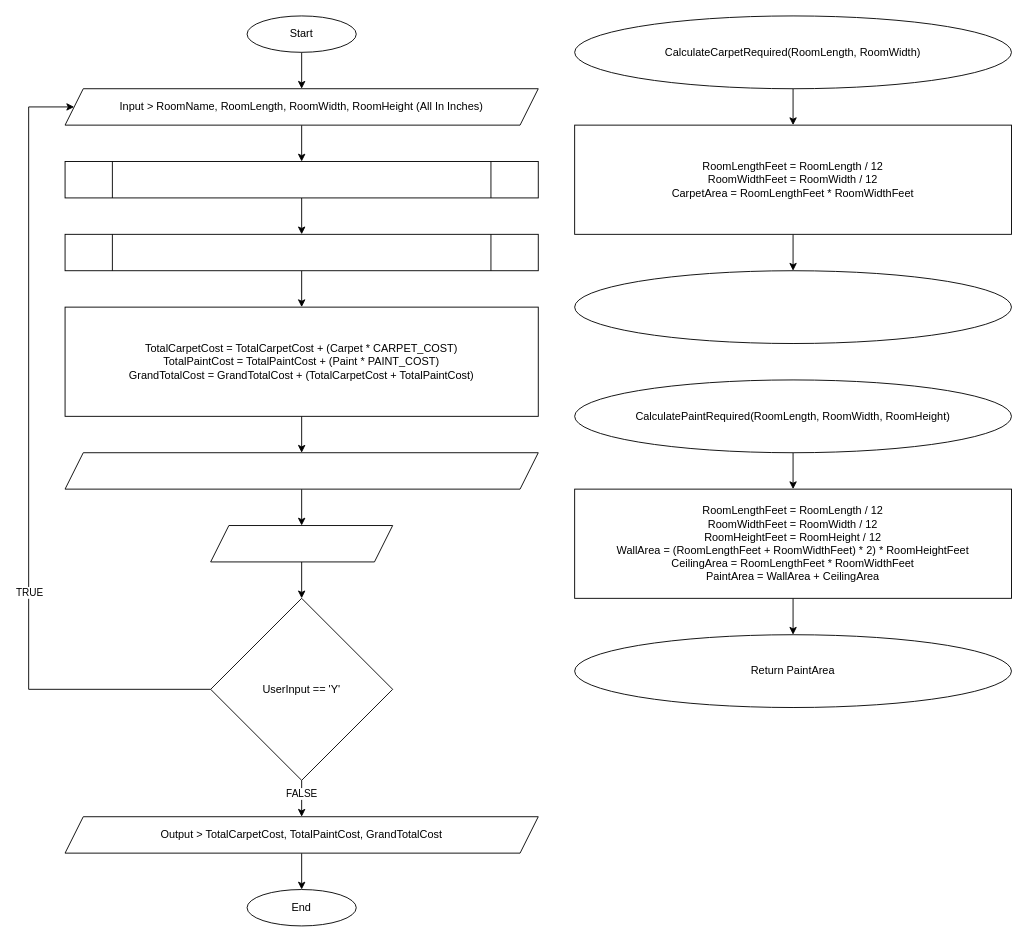
This 1027x942 diagram has some shape labels left out. The centre of each missing label's shape, as x and y in pixels:
Carpet = CalculateCarpetRequired(RoomLength, RoomWidth): the point at 301,179
Input > UserInput: the point at 301,543
Output > Carpet, Paint, RoomName, RoomLength, RoomWidth, RoomHeight: the point at 301,470
Paint = CalculatePaintRequired(RoomLength, RoomWidth, RoomHeight): the point at 301,252
Return CarpetArea: the point at 792,307
